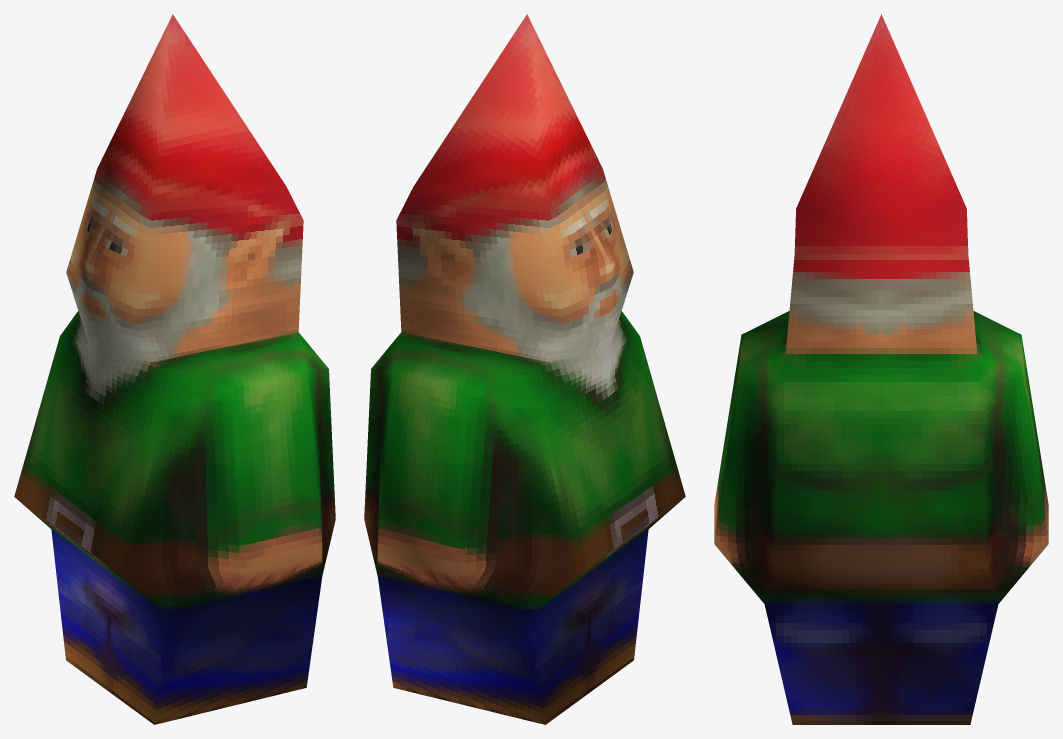
The model's file is gnome.glb.
The picture shows the model from 3 angles, left to right: view 1: azimuth 30°, elevation 25°; view 2: azimuth 150°, elevation 25°; view 3: azimuth 270°, elevation 25°; orthographic projection.
Visible parts, largest first — view 1: Cube; view 2: Cube; view 3: Cube.
Part boxes in pixels (<box>): Cube: <box>14,14,335,724</box>; Cube: <box>364,14,685,724</box>; Cube: <box>714,14,1048,724</box>.
Size of the model in its own units: 0.8617 by 2.51 by 1.14.
Materials: 1 (1 with a texture image).
